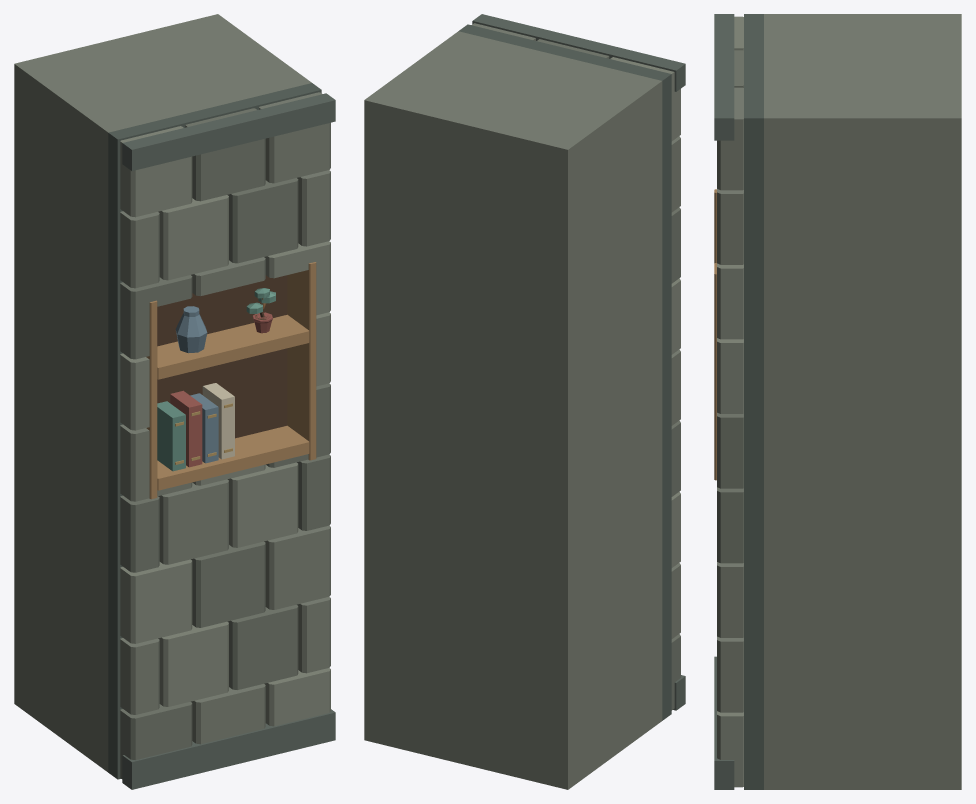
The model's file is wall_stone_shelf.glb.
3 renders of one model, left to right at view 1: azimuth 30°, elevation 25°; view 2: azimuth 150°, elevation 25°; view 3: azimuth 270°, elevation 25°, orthographic. The views are drawn at different scales.
Parts seen in each view (by area): view 1: face_front, geometry; view 2: geometry, face_front; view 3: geometry, face_front.
Boxes of the visible parts, x1,y1,x2,y2 form: face_front: (108, 83, 335, 789); geometry: (14, 14, 311, 772); geometry: (364, 31, 662, 789); face_front: (458, 14, 685, 720); geometry: (764, 14, 961, 789); face_front: (714, 14, 763, 789).
Bounding box in the file's own units: 1 × 3 × 1.
